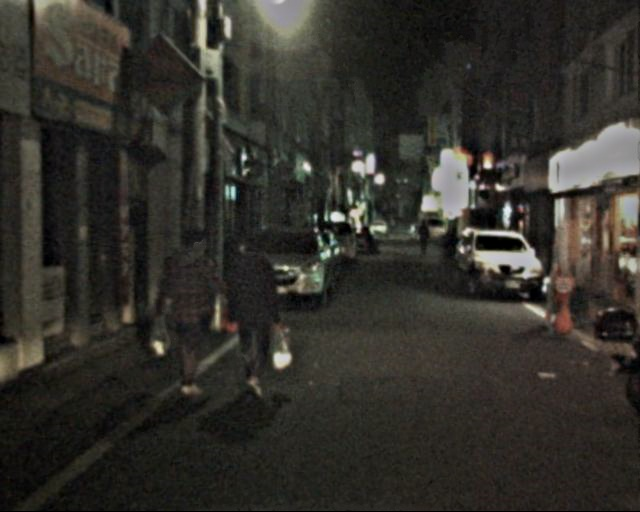person: (152, 231, 223, 399), (219, 234, 287, 402), (416, 221, 432, 258)
